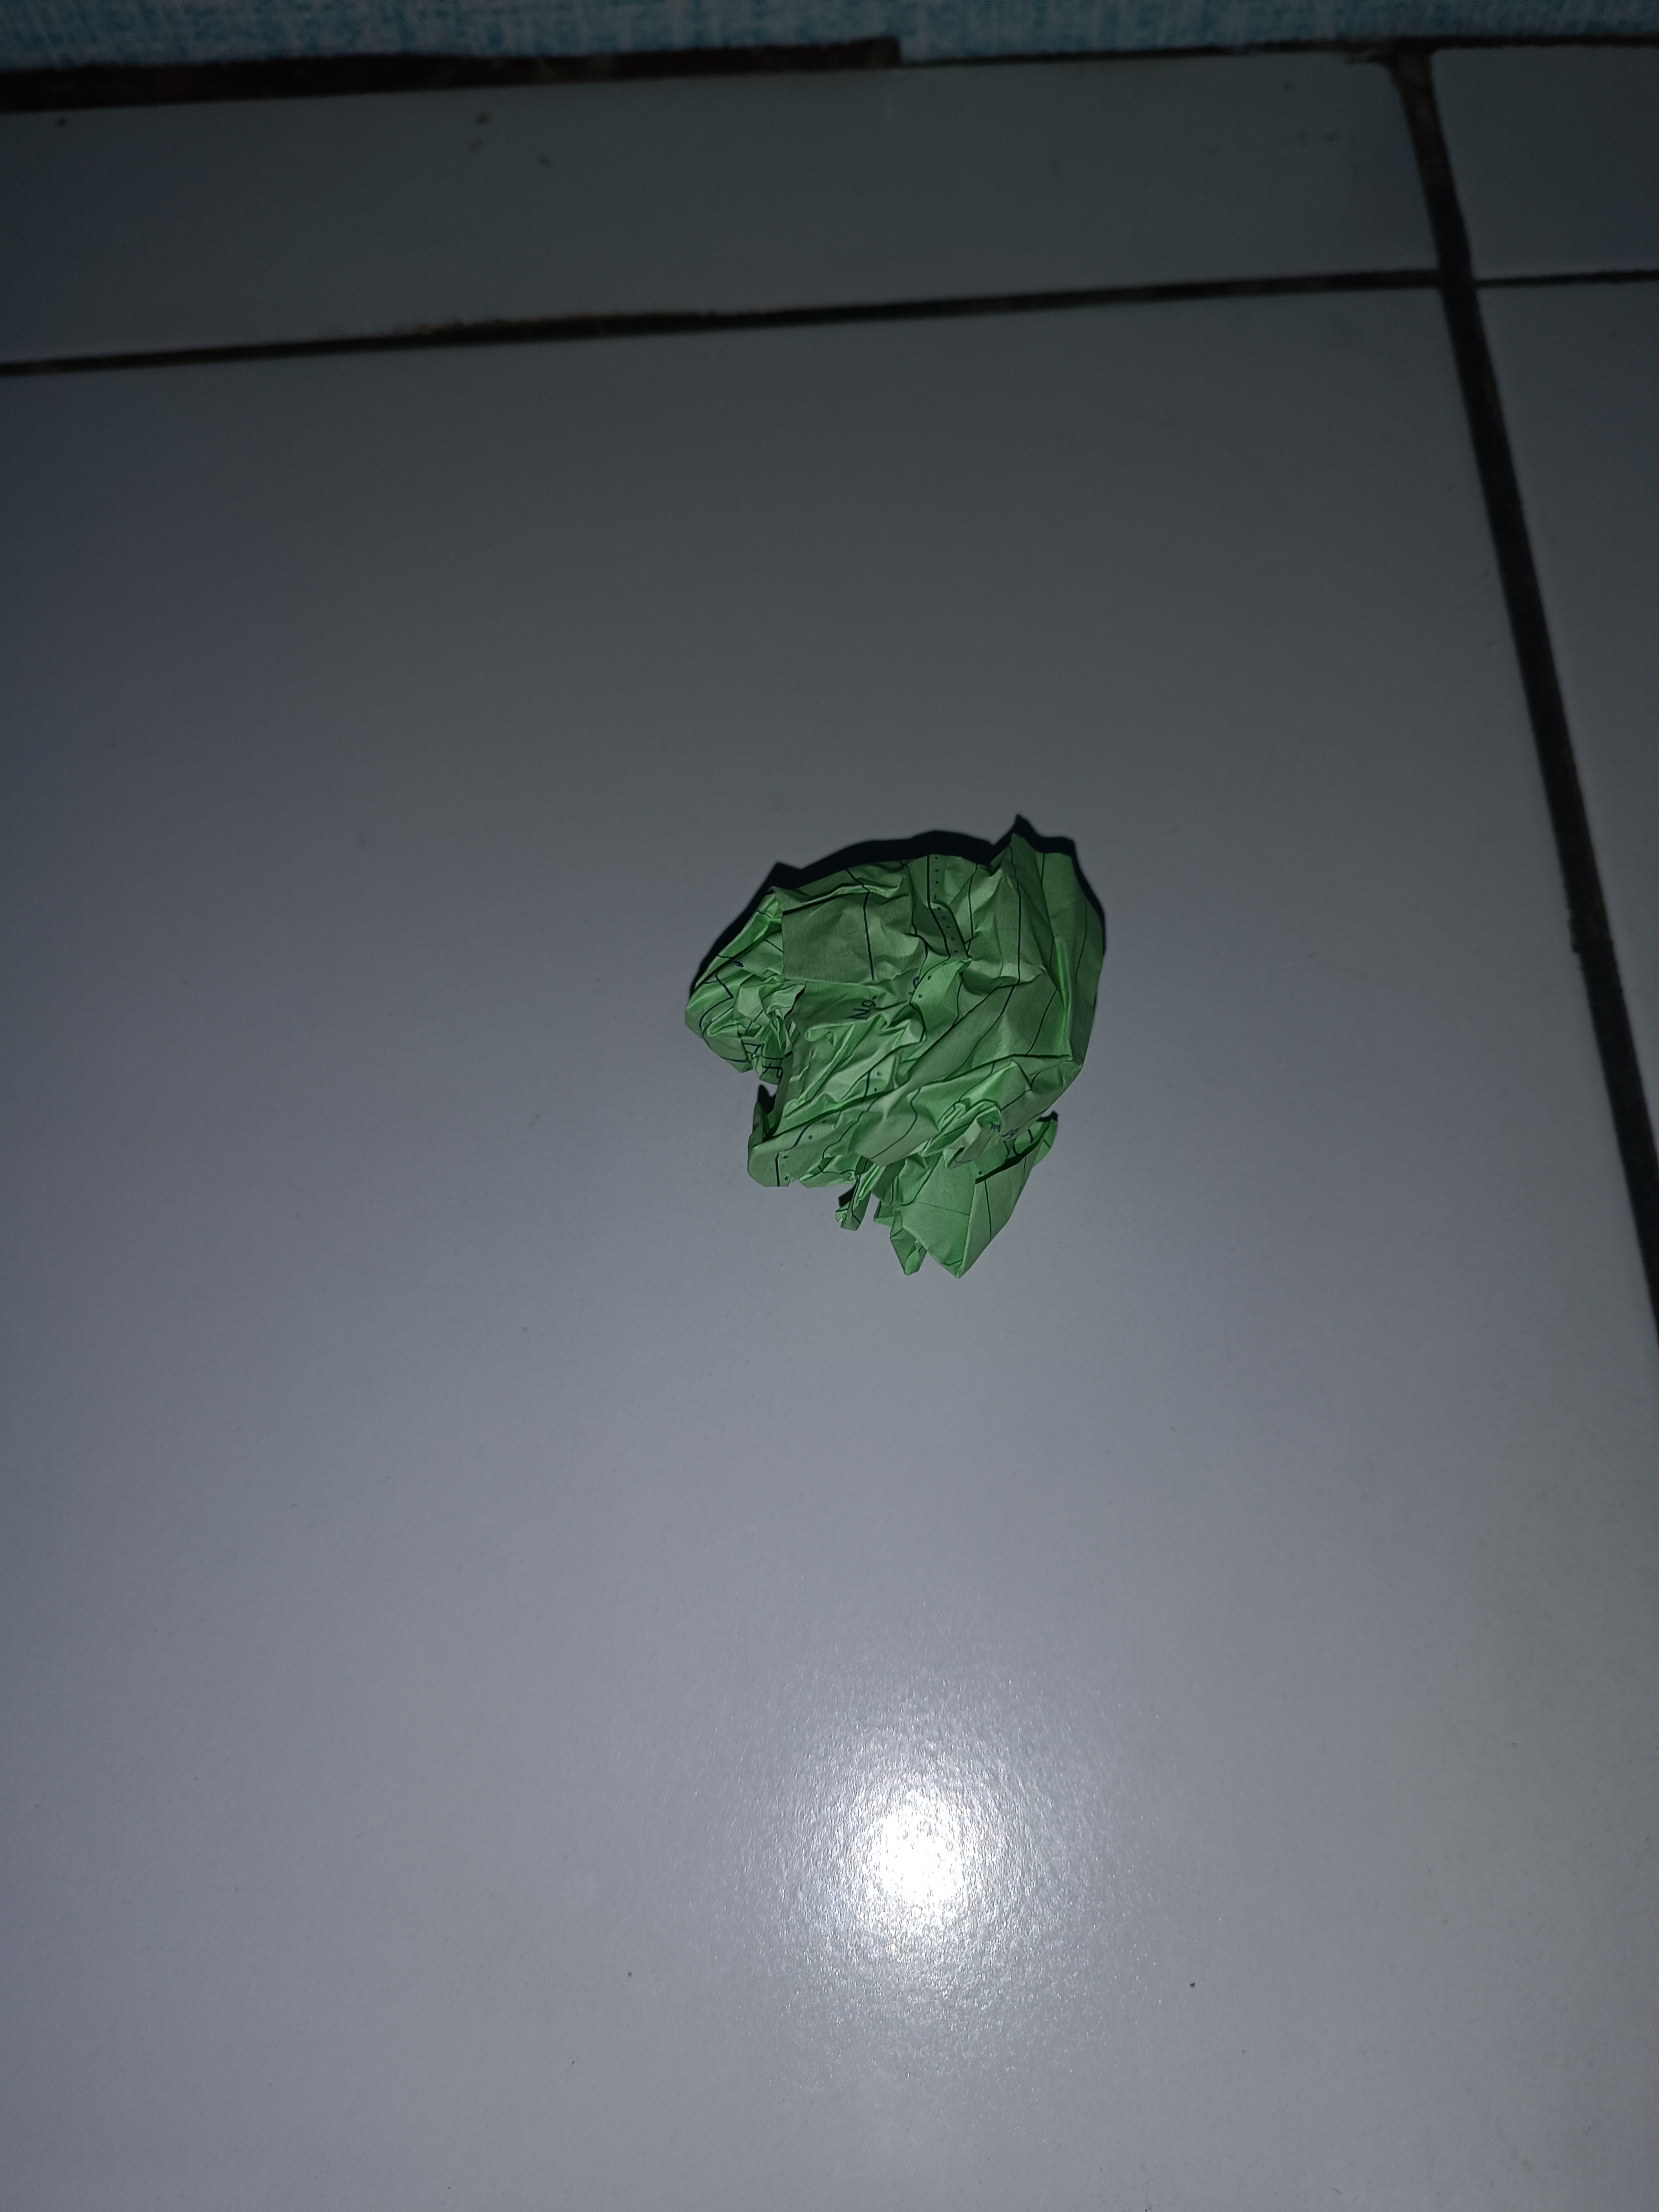Paper: (598, 756, 1065, 1350)
